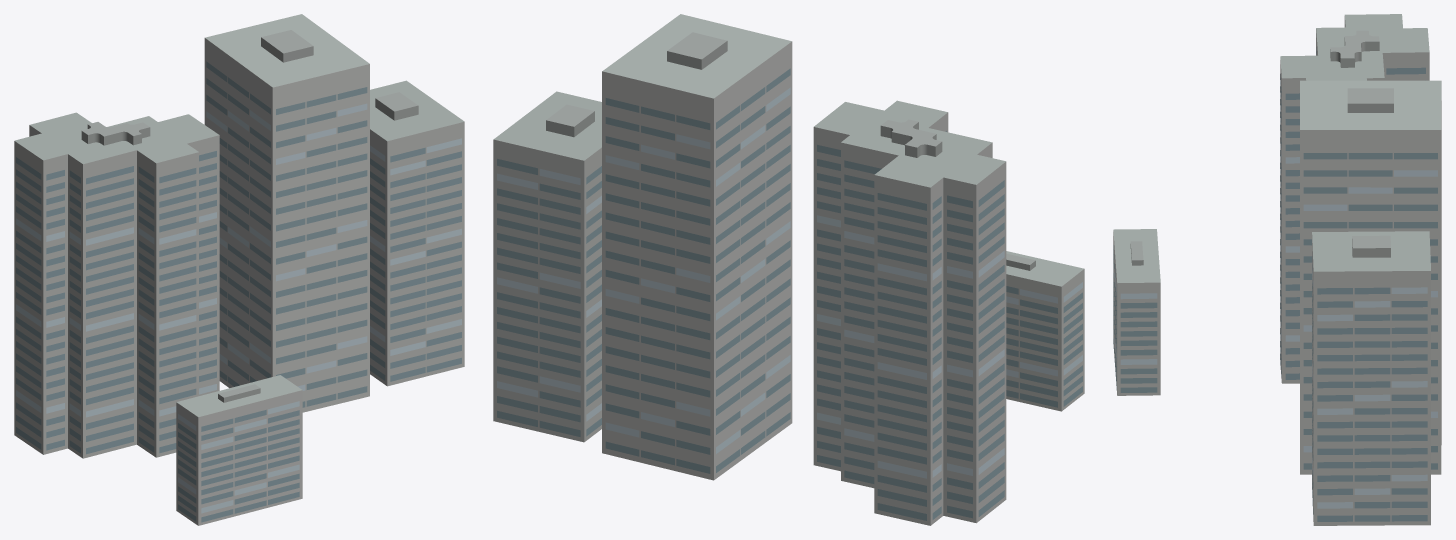
Rendered from apt-a10027274.glb.
3 views of the same model, side by side, from view 1: azimuth 30°, elevation 25°; view 2: azimuth 150°, elevation 25°; view 3: azimuth 270°, elevation 25° (orthographic). The views are drawn at different scales.
Parts seen in each view (by area): view 1: apt-a10027274; view 2: apt-a10027274; view 3: apt-a10027274.
Part boxes in pixels (x1,y1,x2,y2): apt-a10027274: [14, 14, 464, 525]; apt-a10027274: [493, 14, 1084, 525]; apt-a10027274: [1113, 14, 1441, 525].
Bounding box in the file's own units: 113 × 90 × 75.63.
